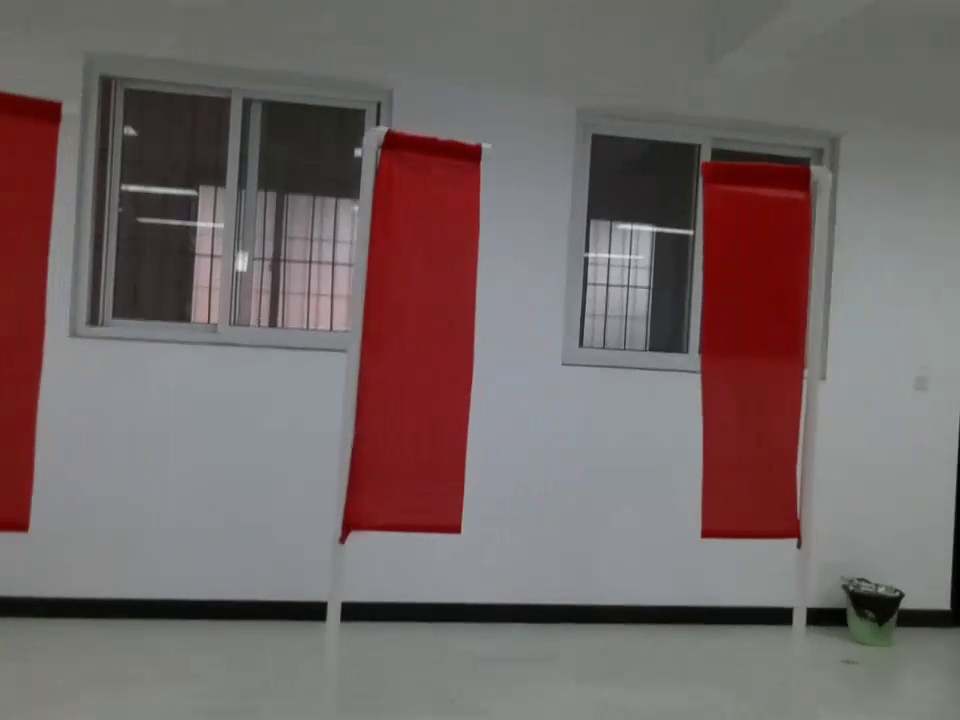qi: (330, 124, 497, 559), (681, 154, 841, 560), (1, 90, 70, 551)
